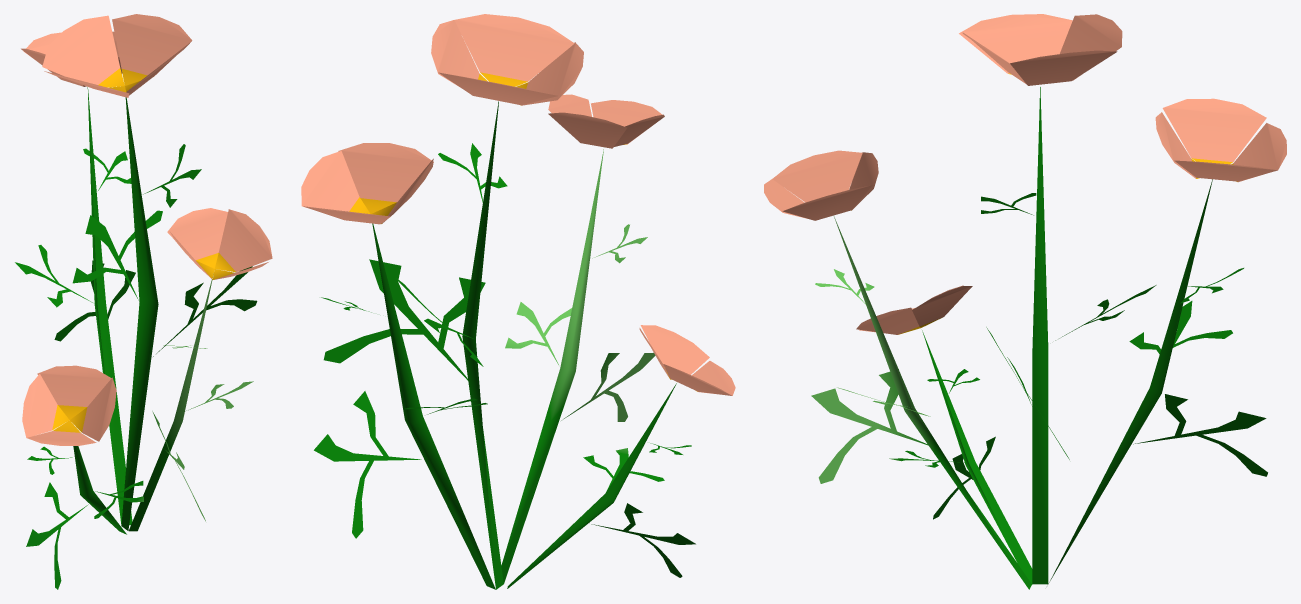
The model's file is HWN20_Flower_02.glb.
3 renders of one model, left to right at view 1: azimuth 30°, elevation 25°; view 2: azimuth 150°, elevation 25°; view 3: azimuth 270°, elevation 25°, orthographic. The views are drawn at different scales.
Parts seen in each view (by area): view 1: HWN20_Flower_02; view 2: HWN20_Flower_02; view 3: HWN20_Flower_02.
Boxes of the visible parts, x1,y1,x2,y2 form: HWN20_Flower_02: (15, 14, 272, 589); HWN20_Flower_02: (301, 14, 735, 589); HWN20_Flower_02: (764, 14, 1286, 589).
Size of the model in its own units: 0.1917 by 0.3031 by 0.2563.
Materials: 1 (1 with a texture image).
